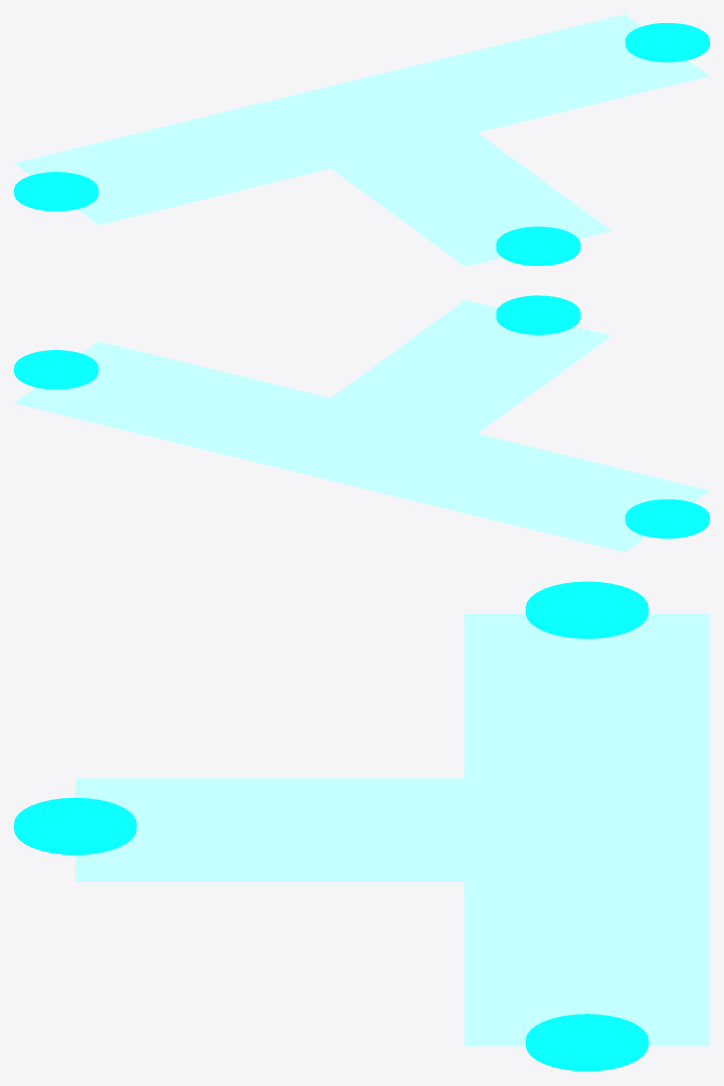
File: t_junction_active.glb
3 views of the same model, one above another, from view 1: azimuth 30°, elevation 25°; view 2: azimuth 150°, elevation 25°; view 3: azimuth 270°, elevation 25° (orthographic). The views are drawn at different scales.
Parts seen in each view (by area): view 1: T_Trace, Via_Left, Via_Bottom, Via_Right; view 2: T_Trace, Via_Left, Via_Bottom, Via_Right; view 3: T_Trace, Via_Left, Via_Right, Via_Bottom.
Part boxes in pixels (x1=…): T_Trace: x1=14, y1=14, x2=709, y2=266; Via_Left: x1=14, y1=172, x2=98, y2=211; Via_Bottom: x1=496, y1=226, x2=580, y2=265; Via_Right: x1=625, y1=23, x2=709, y2=62; T_Trace: x1=14, y1=300, x2=709, y2=552; Via_Left: x1=625, y1=499, x2=709, y2=538; Via_Bottom: x1=496, y1=295, x2=580, y2=334; Via_Right: x1=14, y1=350, x2=98, y2=389; T_Trace: x1=75, y1=614, x2=709, y2=1046; Via_Left: x1=525, y1=581, x2=648, y2=638; Via_Right: x1=525, y1=1014, x2=648, y2=1071; Via_Bottom: x1=14, y1=797, x2=136, y2=855.
Bounding box in the file's own units: 1.12 × 0.007 × 0.68.
